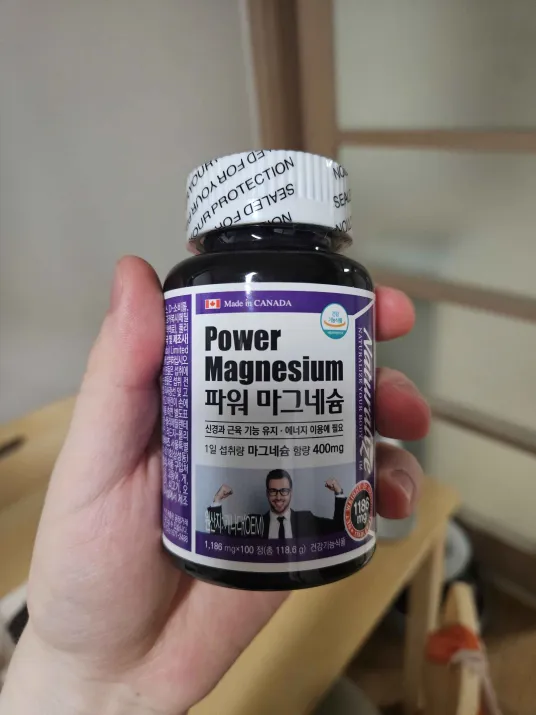supplement_label: (152, 277, 385, 578)
